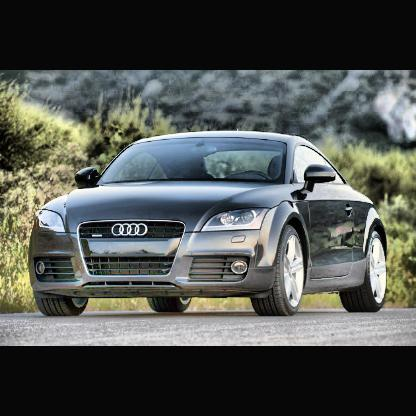Audi TT Hatchback 2011: (29, 128, 389, 318)
